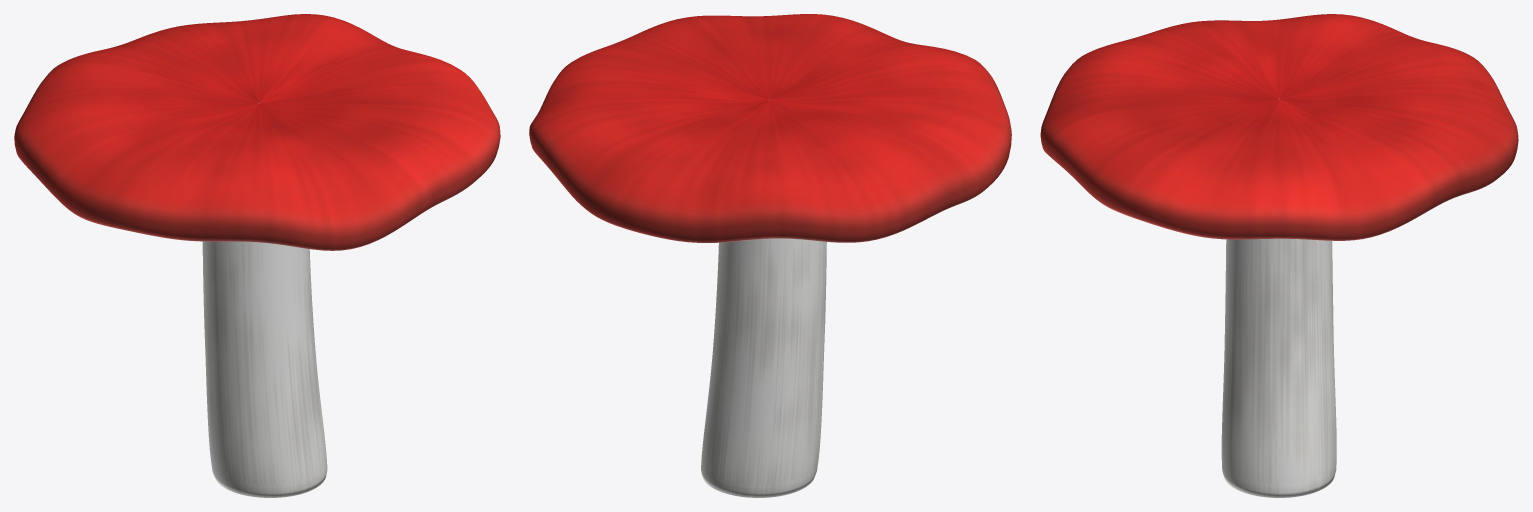
The model's file is russula-emetica-drawn.glb.
3 renders of one model, left to right at view 1: azimuth 30°, elevation 25°; view 2: azimuth 150°, elevation 25°; view 3: azimuth 270°, elevation 25°, orthographic.
Size of the model in its own units: 0.8149 by 0.7313 by 0.8326.
Materials: 1 (1 with a texture image).
